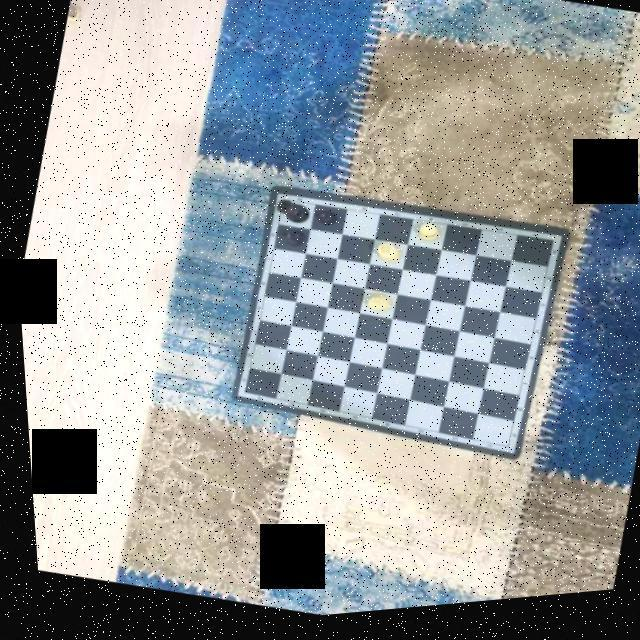chess-table-corners: (530, 236, 564, 266), (260, 190, 292, 218), (227, 384, 250, 406), (488, 443, 509, 463)
